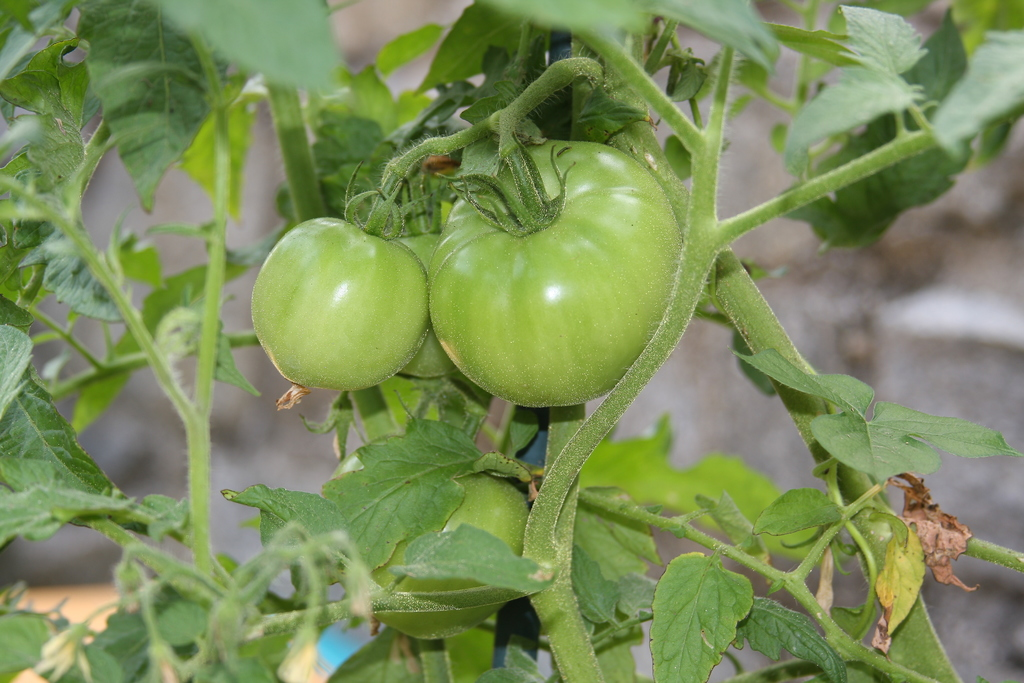Tomato: (429, 136, 682, 412), (250, 171, 429, 392), (330, 449, 530, 643), (387, 227, 449, 379)
